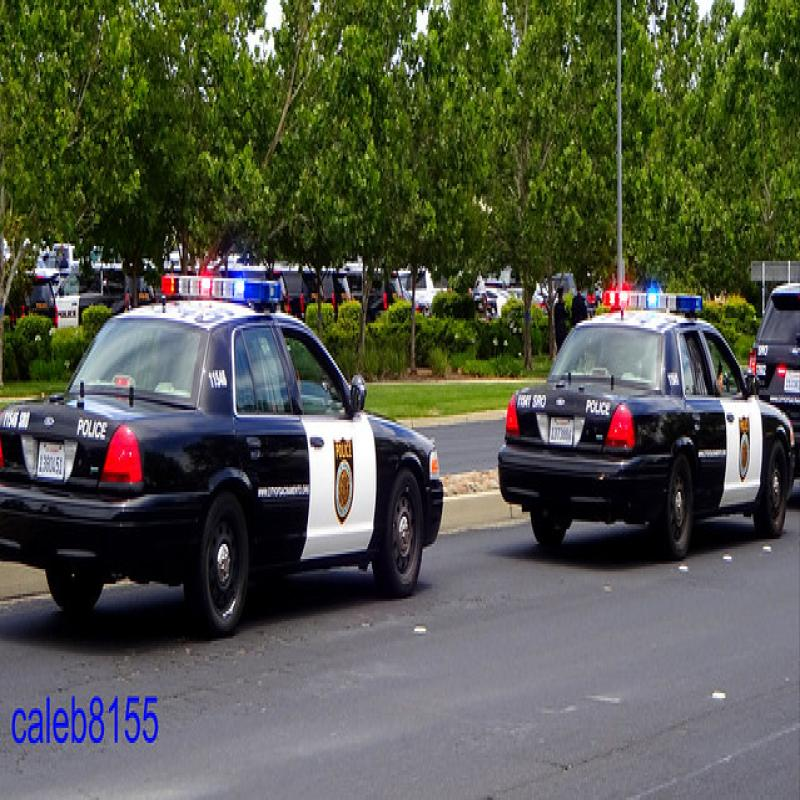AmbulanceSiren: (156, 254, 277, 339), (586, 269, 703, 321)
